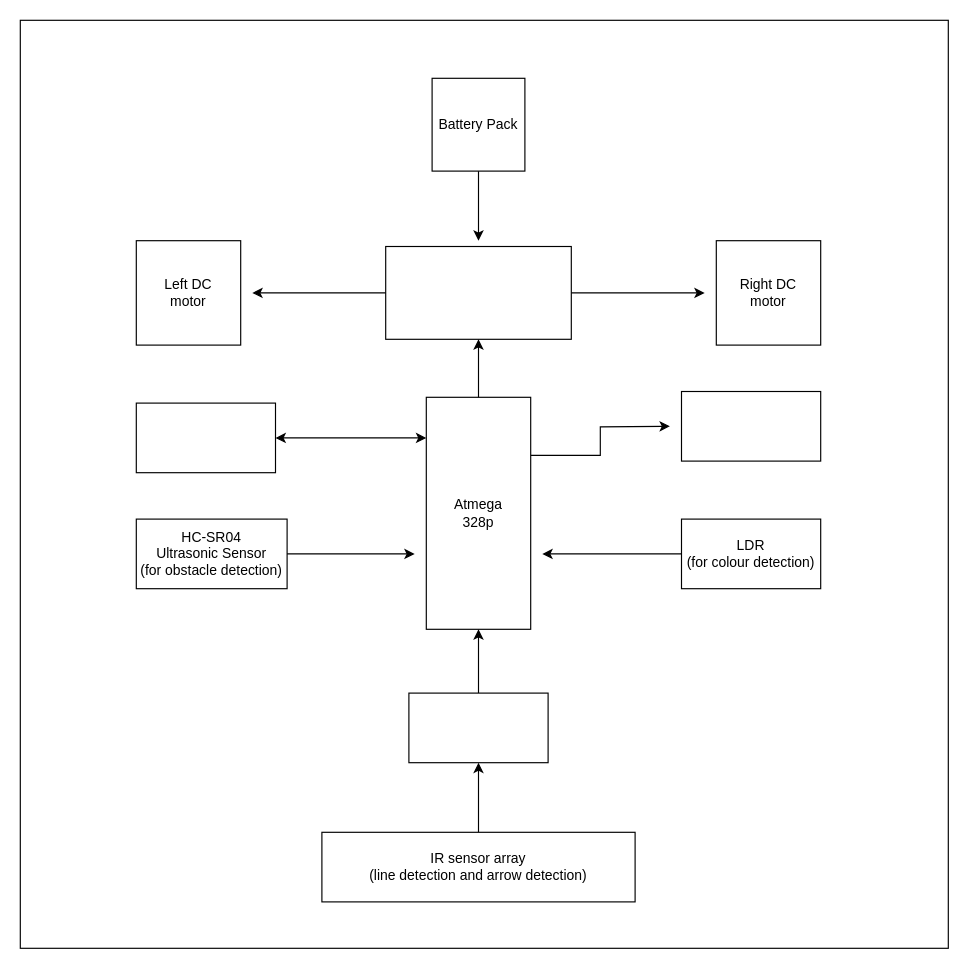
This 969x969 diagram has some shape labels left out. The shapes that lost their labels are listed below. From the top down, each one's box as (x1, y1, x2, y2) in pixels, then its label:
(385, 245, 571, 339): Motor Driver
(135, 402, 276, 473): HC-05 Bloutooth module (for communication)
(680, 390, 821, 461): Tri colour LED (for colour detection)
(408, 692, 548, 763): LM 324 op amp
